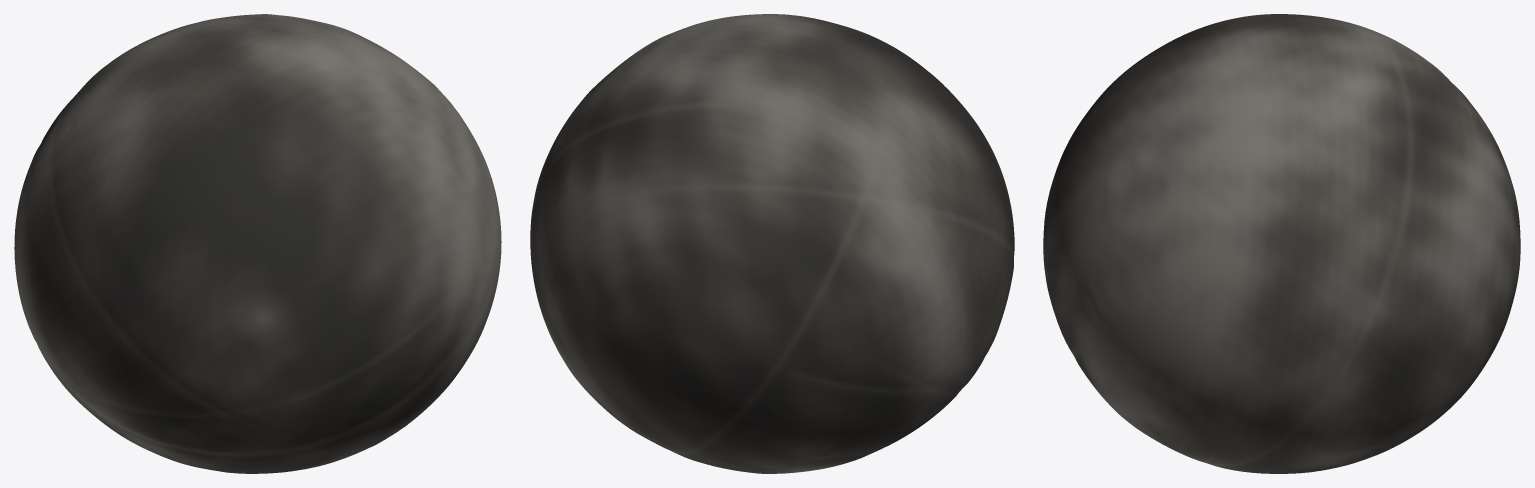
Rendered from hygiea.glb.
The picture shows the model from 3 angles, left to right: view 1: azimuth 30°, elevation 25°; view 2: azimuth 150°, elevation 25°; view 3: azimuth 270°, elevation 25°; orthographic projection.
Parts seen in each view (by area): view 1: hygiea_body; view 2: hygiea_body; view 3: hygiea_body.
Part boxes in pixels (x1=…): hygiea_body: x1=14, y1=14, x2=501, y2=473; hygiea_body: x1=530, y1=14, x2=1014, y2=473; hygiea_body: x1=1043, y1=14, x2=1520, y2=473.
Size of the model in its own units: 2.04 by 1.89 by 1.99.
1 material, 1 textured.
